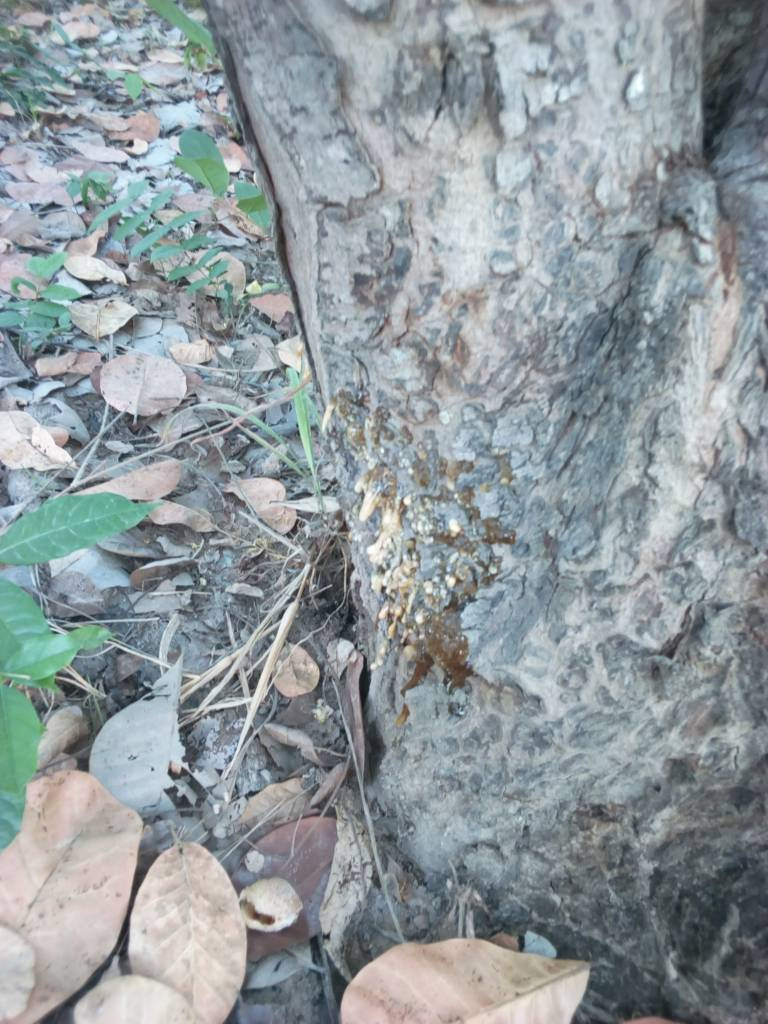Gommose: (330, 366, 502, 699)
